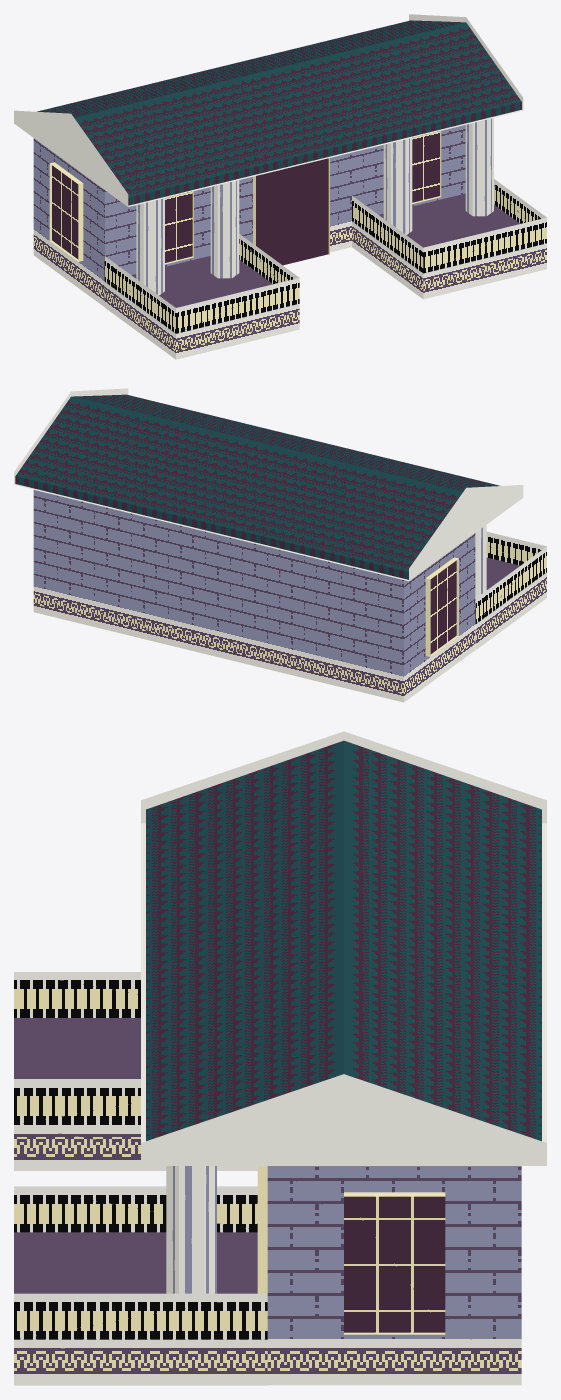
File: mansion.glb
3 renders of one model, top to bottom at view 1: azimuth 30°, elevation 25°; view 2: azimuth 150°, elevation 25°; view 3: azimuth 270°, elevation 25°, orthographic. The views are drawn at different scales.
Parts seen in each view (by area): view 1: palace; view 2: palace; view 3: palace.
Part boxes in pixels (box(x1,y1,x2,y2)): palace: box(14, 14, 546, 359); palace: box(14, 388, 546, 702); palace: box(14, 731, 546, 1385).
Size of the model in its own units: 15.98 by 7 by 10.5.
1 material, 1 textured.
